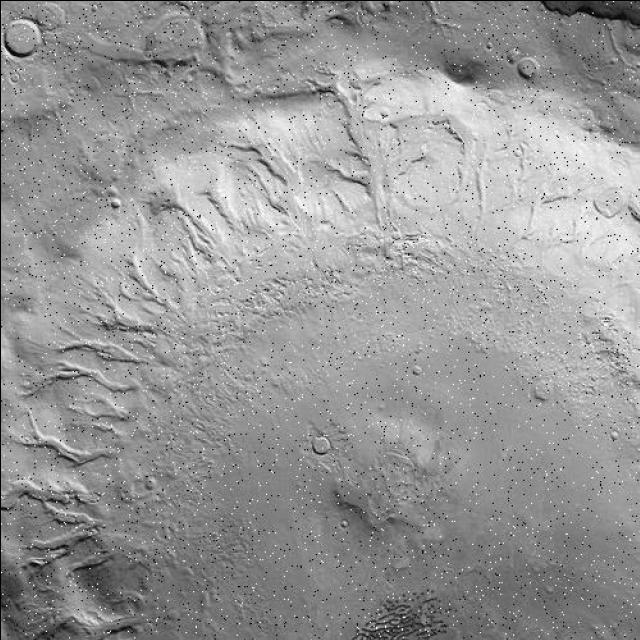crater: (0, 66, 640, 640), (485, 452, 640, 640), (0, 4, 56, 63), (510, 362, 562, 416), (504, 48, 550, 86), (610, 170, 640, 217), (300, 429, 334, 463), (402, 354, 436, 382), (617, 420, 640, 461), (324, 513, 365, 533), (602, 428, 628, 446), (627, 163, 640, 190)
